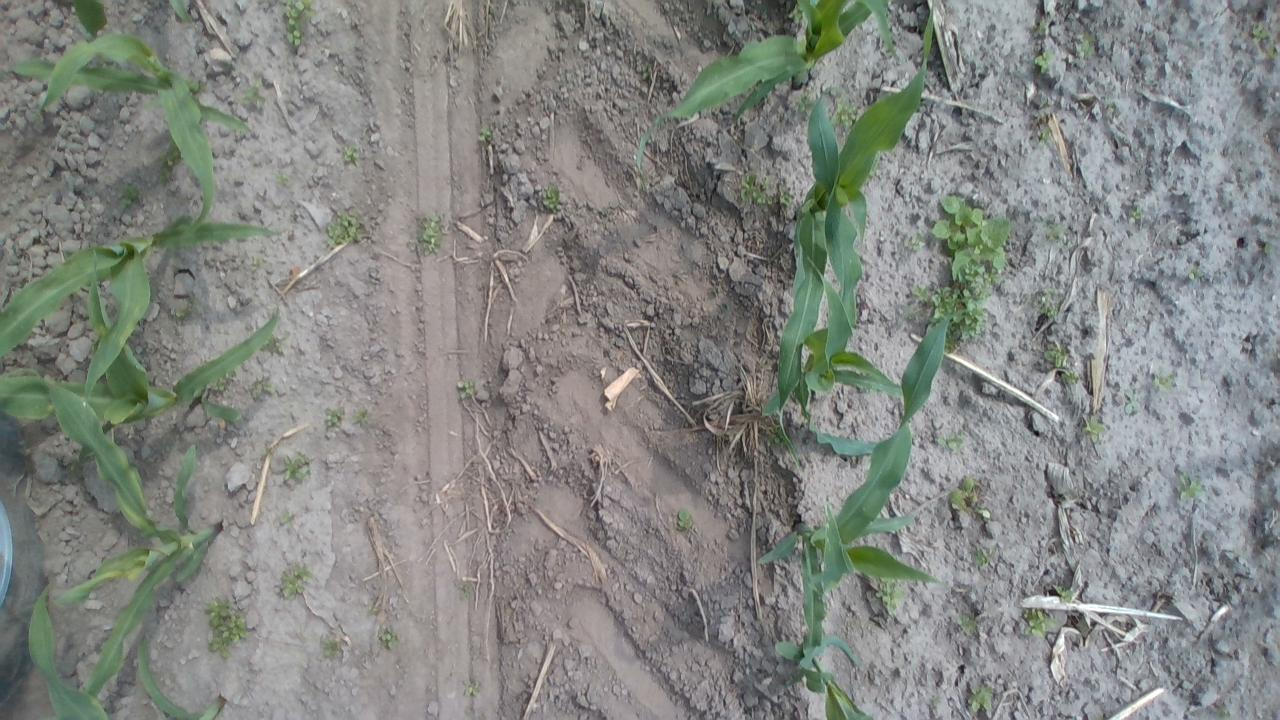Maize: (756, 0, 954, 466), (37, 370, 238, 702), (753, 302, 967, 596), (0, 28, 257, 237), (634, 0, 905, 197), (8, 259, 288, 440), (0, 215, 287, 363), (17, 592, 236, 720), (797, 250, 905, 466), (776, 520, 892, 720)
Weeds: (932, 190, 1011, 287), (898, 277, 993, 352), (205, 594, 250, 661), (322, 202, 368, 256), (734, 173, 796, 213), (276, 0, 322, 53), (946, 474, 990, 524), (873, 568, 910, 620), (410, 210, 448, 260), (277, 558, 317, 602), (1019, 606, 1060, 642), (280, 449, 316, 487), (831, 99, 866, 138), (1251, 17, 1278, 67), (154, 148, 182, 194), (452, 373, 488, 408), (1034, 214, 1070, 249), (964, 682, 999, 717), (1174, 472, 1208, 507), (236, 74, 265, 115), (933, 426, 970, 458), (1030, 284, 1059, 323), (110, 180, 146, 211), (170, 292, 208, 320), (790, 84, 821, 118), (1029, 42, 1060, 76), (969, 542, 996, 580), (955, 610, 988, 640), (1042, 342, 1076, 370), (244, 375, 280, 401), (316, 631, 348, 660), (1147, 366, 1179, 395), (1071, 32, 1098, 66), (1078, 412, 1106, 444), (336, 139, 366, 168), (209, 369, 240, 397), (669, 502, 696, 534), (1049, 582, 1080, 608), (539, 184, 566, 213), (348, 400, 371, 434), (454, 576, 480, 606), (460, 672, 484, 704), (786, 0, 814, 27), (320, 402, 344, 433), (276, 506, 301, 534), (902, 227, 924, 258), (473, 123, 498, 150), (376, 622, 400, 650), (264, 332, 288, 360), (1129, 206, 1151, 229), (267, 167, 291, 187), (1184, 266, 1210, 284), (1062, 365, 1082, 387), (1212, 701, 1234, 720), (1032, 16, 1051, 38), (1036, 126, 1055, 147), (1124, 390, 1140, 414), (1036, 92, 1055, 112), (1262, 240, 1279, 262), (924, 692, 944, 708), (252, 254, 267, 274)
